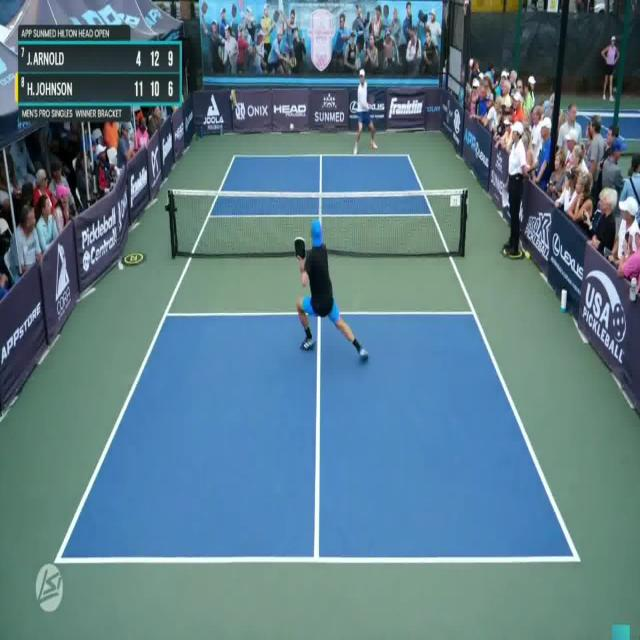Court: (58, 154, 577, 564)
ball: (288, 119, 295, 135)
